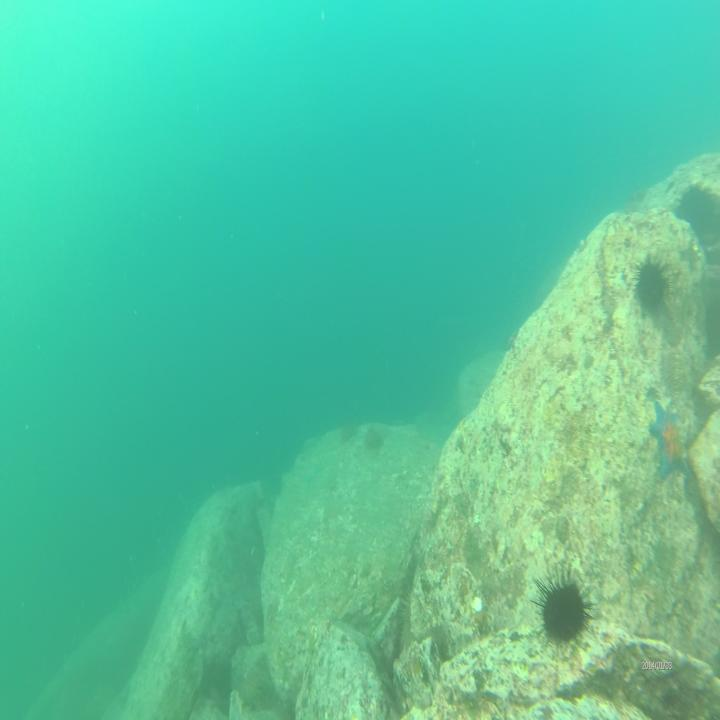echinus: (528, 565, 596, 652), (631, 253, 675, 313)
starfish: (648, 395, 688, 480)
